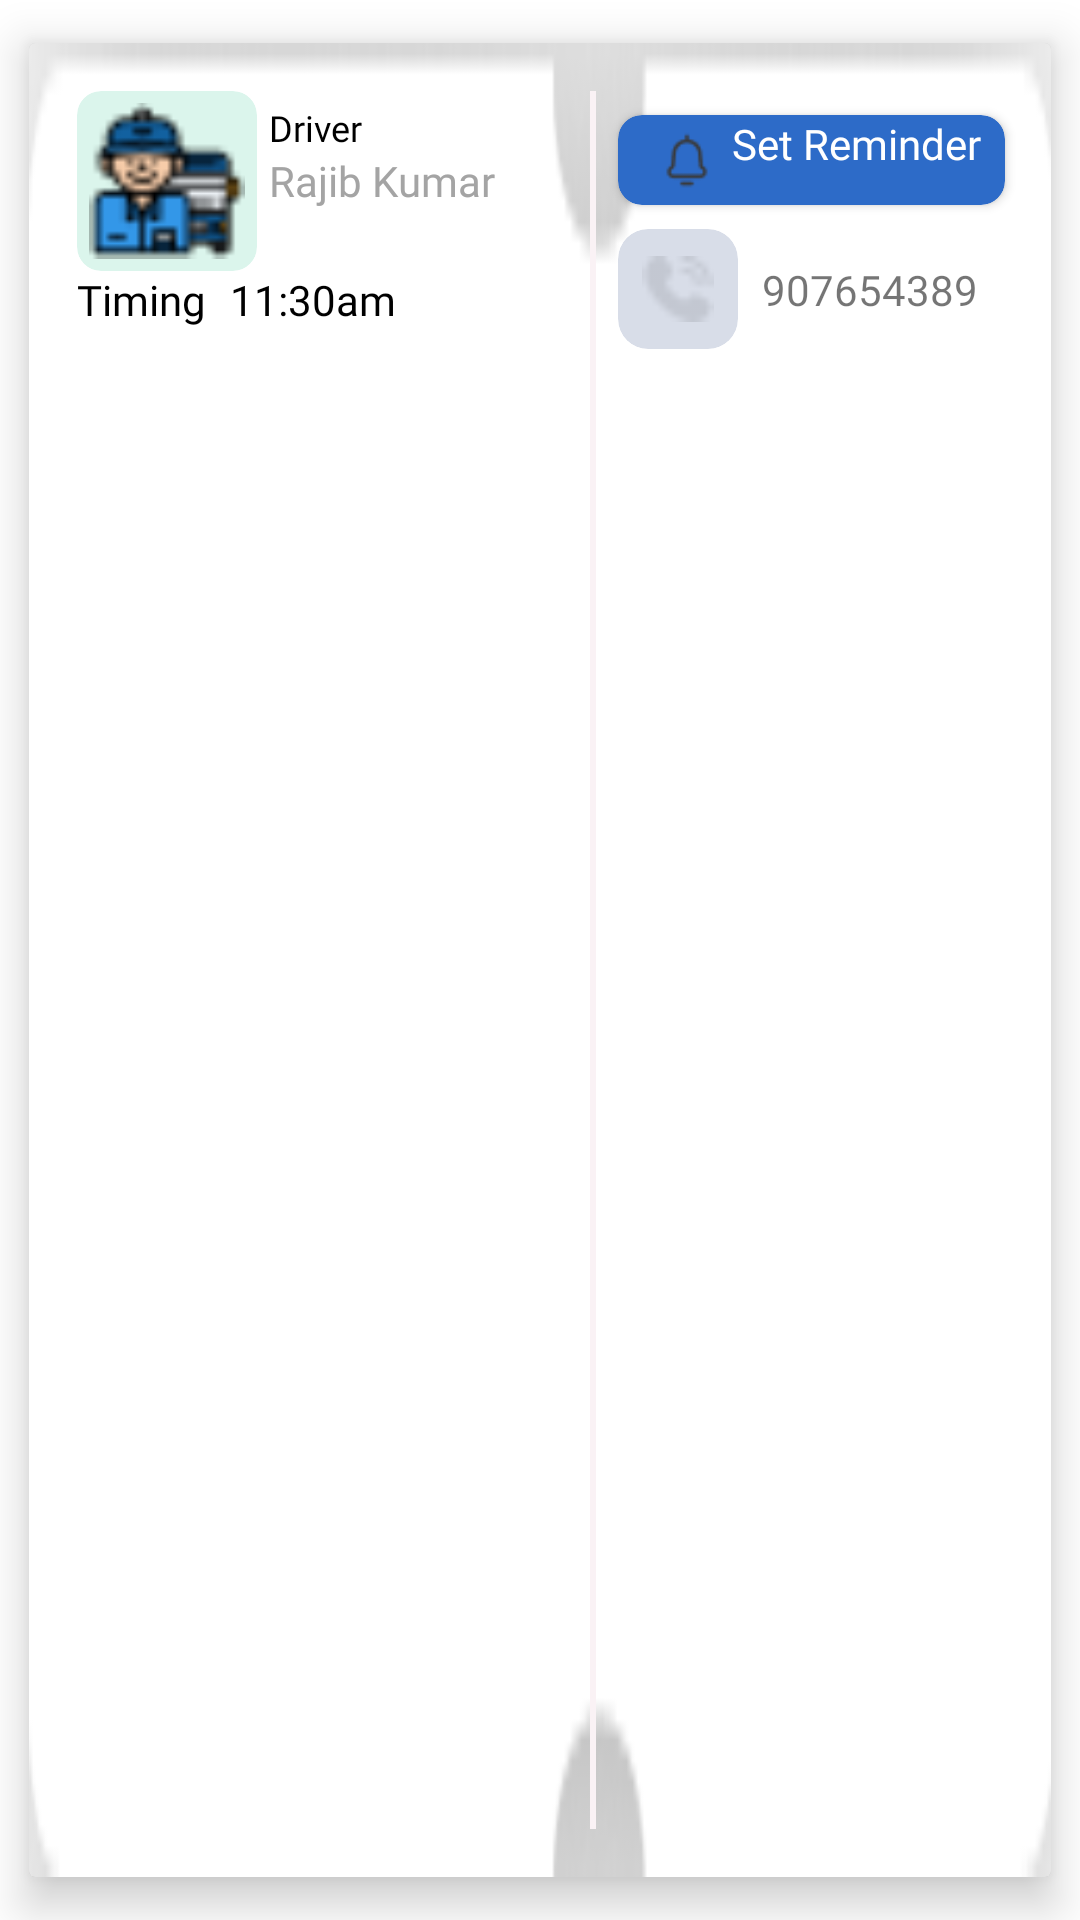

Icons on this 1080 × 1920 Android screen, each with its box as {"left": x1, "top": y1, "right": x2, "bottom": y2}:
bell: {"left": 666, "top": 134, "right": 708, "bottom": 187}
